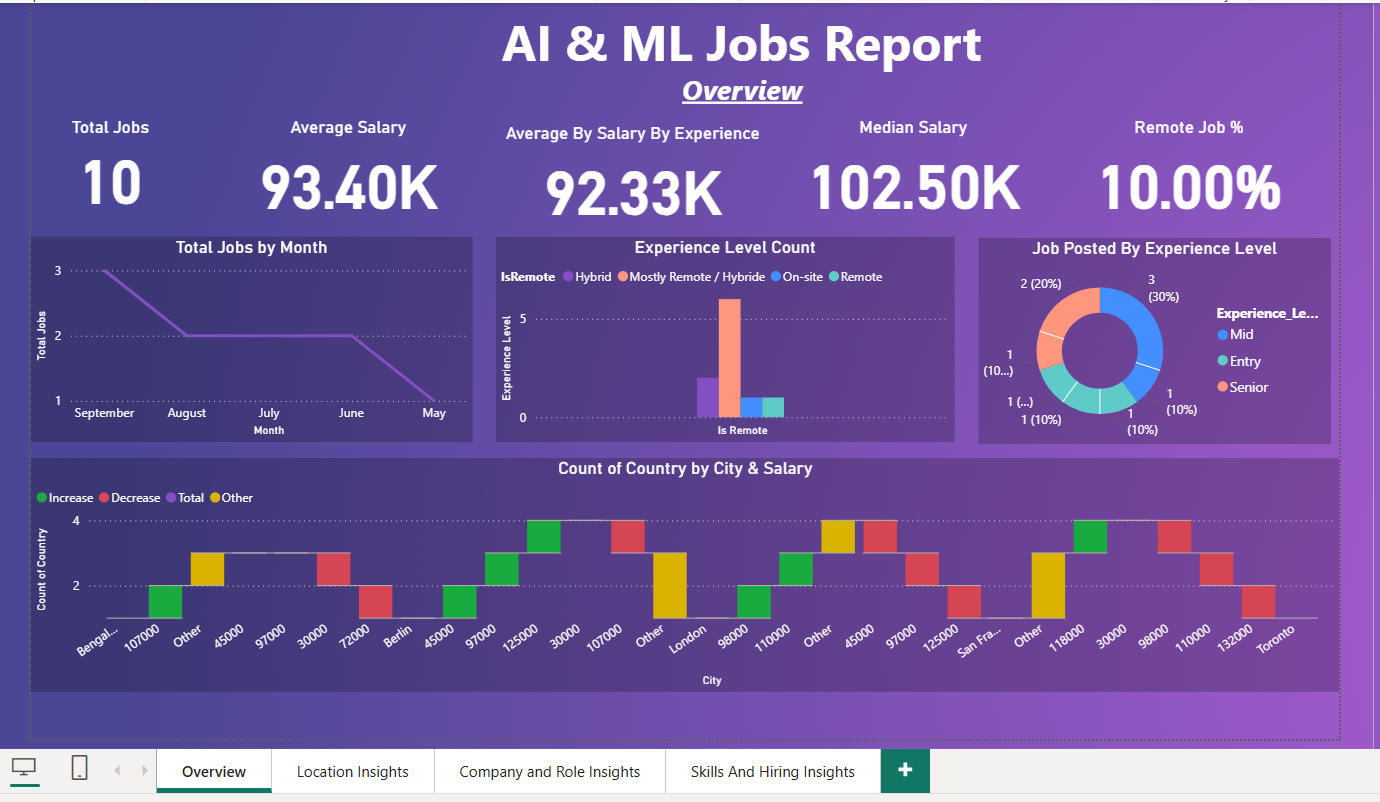

Layout of this report page (visuals, bound fields, positions):
{"tool":"powerbi","page":{"name":"Overview","canvas":[1280,720],"ordinal":0},"visuals":[{"type":"textbox","box":[404.8,0,580.8,100.3],"z":0},{"type":"card","title":"Average Salary","fields":{"Values":["Fact_Jobs.AvgSalary"]},"box":[216.4,111.3,188.3,103.9],"z":1000},{"type":"card","title":"Total Jobs","fields":{"Values":["Fact_Jobs.TotalJobs"]},"box":[0,111.3,155.3,94.2],"z":2000},{"type":"card","title":"Median Salary","fields":{"Values":["Fact_Jobs.MedianSalary"]},"box":[743.5,111.3,239.7,103.9],"z":3000},{"type":"card","title":"Remote Job %","fields":{"Values":["Fact_Jobs.RemoteJob%"]},"box":[1012.5,111.3,240.9,103.9],"z":4000},{"type":"card","title":"Average By Salary By Experience","fields":{"Values":["Fact_Jobs.AvgSalaryByExperience"]},"box":[454.9,117.4,267.8,103.9],"z":5000},{"type":"lineChart","title":"Total Jobs by Month","fields":{"Category":["Dim_Date.MonthName"],"Y":["Fact_Jobs.TotalJobs"]},"box":[0,228.7,431.7,200.5],"z":6000},{"type":"clusteredColumnChart","title":"Experience Level Count","fields":{"Y":["CountNonNull(Fact_Jobs.Employment_Type)"],"Series":["Fact_Jobs.IsRemote"]},"box":[454.9,228.7,448.8,200.5],"z":7000},{"type":"donutChart","title":"Job Posted By Experience Level","fields":{"Series":["Fact_Jobs.IsRemote"],"Category":["Fact_Jobs.Experience_Level"],"Y":["Fact_Jobs.TotalJobs"]},"box":[926.9,229.9,344.8,201.8],"z":8000},{"type":"waterfallChart","title":"Count of Country by City  & Salary","fields":{"Category":["Dim_Locations.City"],"Breakdown":["Fact_Jobs.Salary_USD"],"Y":["CountNonNull(Dim_Locations.Country)"]},"box":[0,445.1,1280.3,228.7],"z":9000},{"type":"textbox","box":[622.4,61.1,146.7,50.1],"z":10000}]}

Visuals, with their boxes on the page's 1280x720 design canvas (x1, y1, x2, y2). These are canvas units, not pixel positions in the 1380x802 screenshot, which may show the page scaled, cropped or inside an application window:
textbox: [405,0,986,100]
"Average Salary" card: [216,111,405,215]
"Total Jobs" card: [0,111,155,206]
"Median Salary" card: [744,111,983,215]
"Remote Job %" card: [1012,111,1253,215]
"Average By Salary By Experience" card: [455,117,723,221]
"Total Jobs by Month" lineChart: [0,229,432,429]
"Experience Level Count" clusteredColumnChart: [455,229,904,429]
"Job Posted By Experience Level" donutChart: [927,230,1272,432]
"Count of Country by City  & Salary" waterfallChart: [0,445,1280,674]
textbox: [622,61,769,111]
